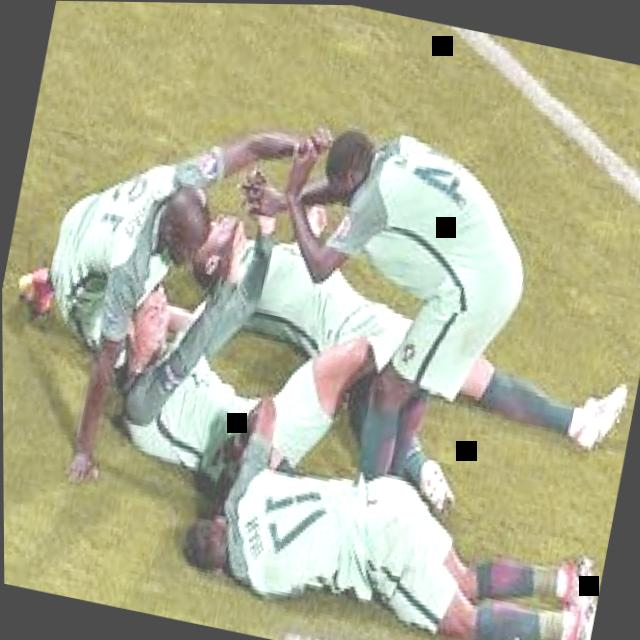Fall-Detected: (175, 413, 617, 640)
